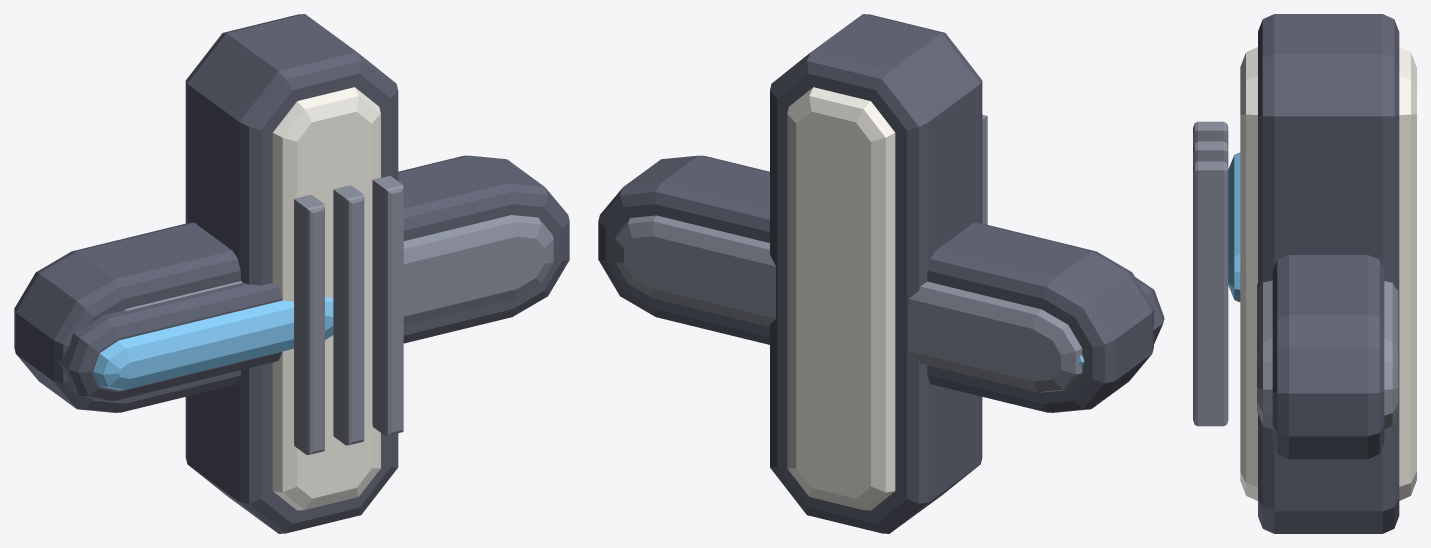
Rendered from game-ui-icon-library-slider-handle-76852dad__19050.glb.
The picture shows the model from 3 angles, left to right: view 1: azimuth 30°, elevation 25°; view 2: azimuth 150°, elevation 25°; view 3: azimuth 270°, elevation 25°; orthographic projection. The views are drawn at different scales.
Visible parts, largest first — view 1: slider-handle; view 2: slider-handle; view 3: slider-handle.
Part boxes in pixels (box(x1,y1,x2,y2)): slider-handle: box(14, 14, 569, 533); slider-handle: box(598, 14, 1164, 533); slider-handle: box(1193, 14, 1416, 533).
Size of the model in its own units: 0.98 by 0.8422 by 0.3556.
